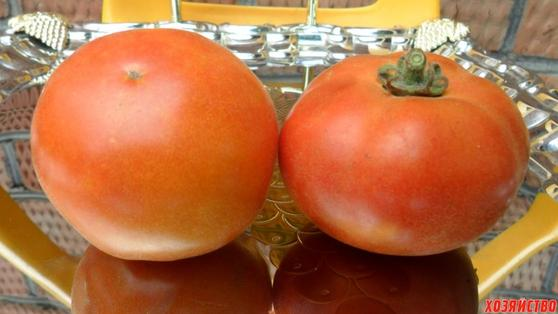tomato: (30, 30, 280, 263), (280, 51, 529, 259)
